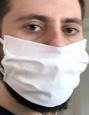with_mask: (2, 2, 89, 115)
